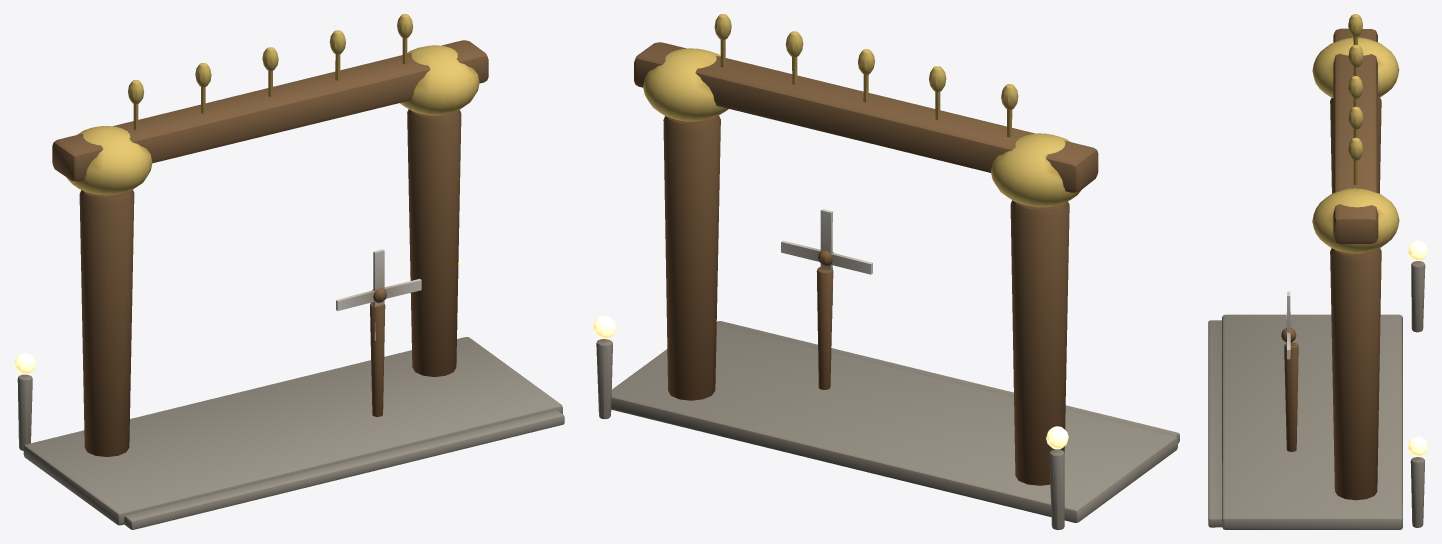
3 views of the same model, side by side, from view 1: azimuth 30°, elevation 25°; view 2: azimuth 150°, elevation 25°; view 3: azimuth 270°, elevation 25° (orthographic). The views are drawn at different scales.
Parts seen in each view (by area): view 1: gate_ff50b937; view 2: gate_ff50b937; view 3: gate_ff50b937.
Boxes of the visible parts, x1,y1,x2,y2 form: gate_ff50b937: (14, 14, 564, 529); gate_ff50b937: (593, 14, 1179, 529); gate_ff50b937: (1208, 14, 1427, 529).
Bounding box in the file's own units: 5.64 × 4.53 × 2.55.
